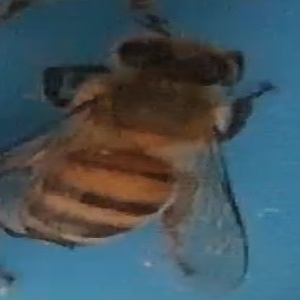bee: (5, 17, 262, 285)
